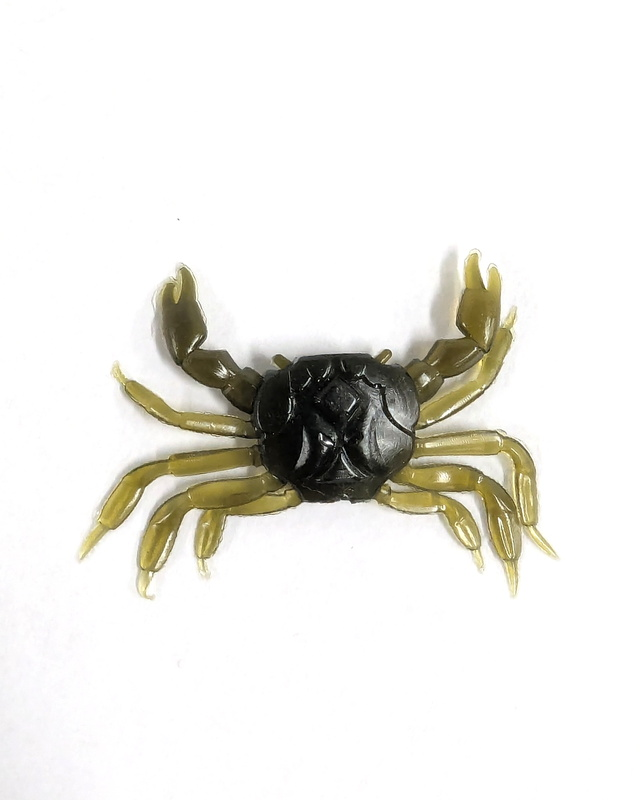crab2: (71, 250, 565, 601)
